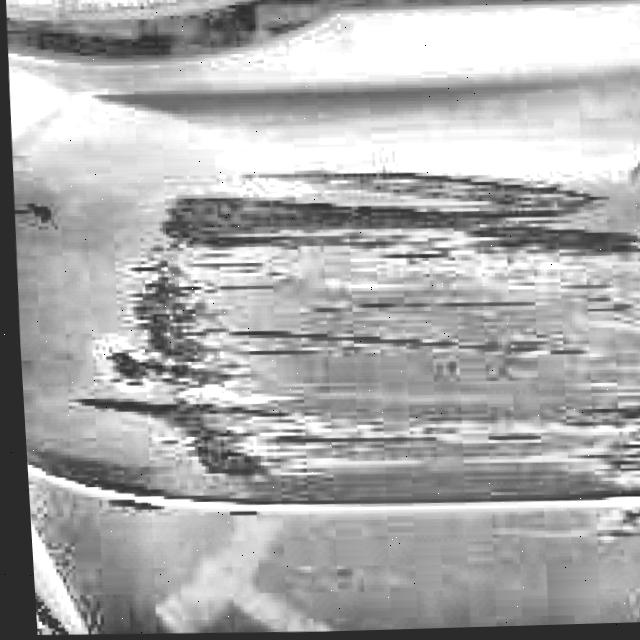bumper_scratch: (61, 152, 640, 551)
